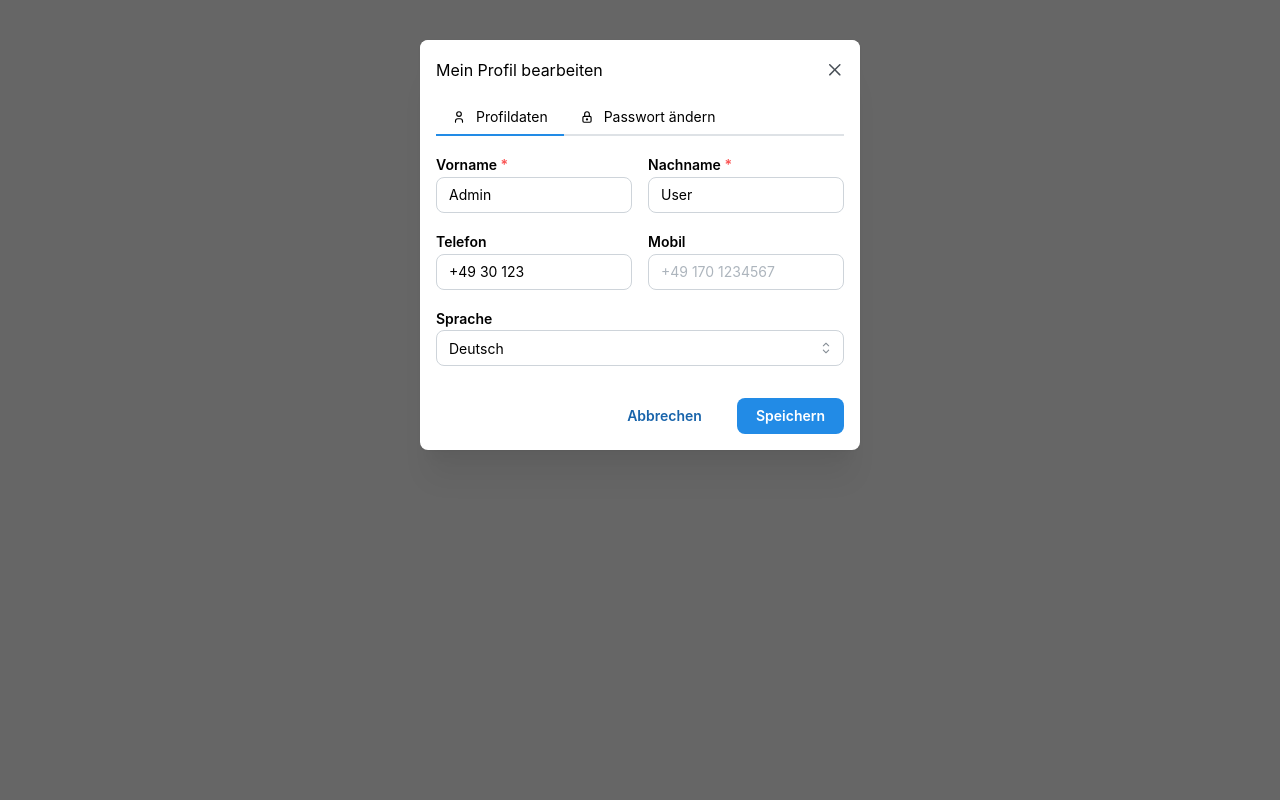
Test case: EditProfileModal › ändert das Passwort und meldet Erfolg
Click the tab "Passwort ändern" at (648, 118), box x1=564 y1=100 x2=732 y2=136
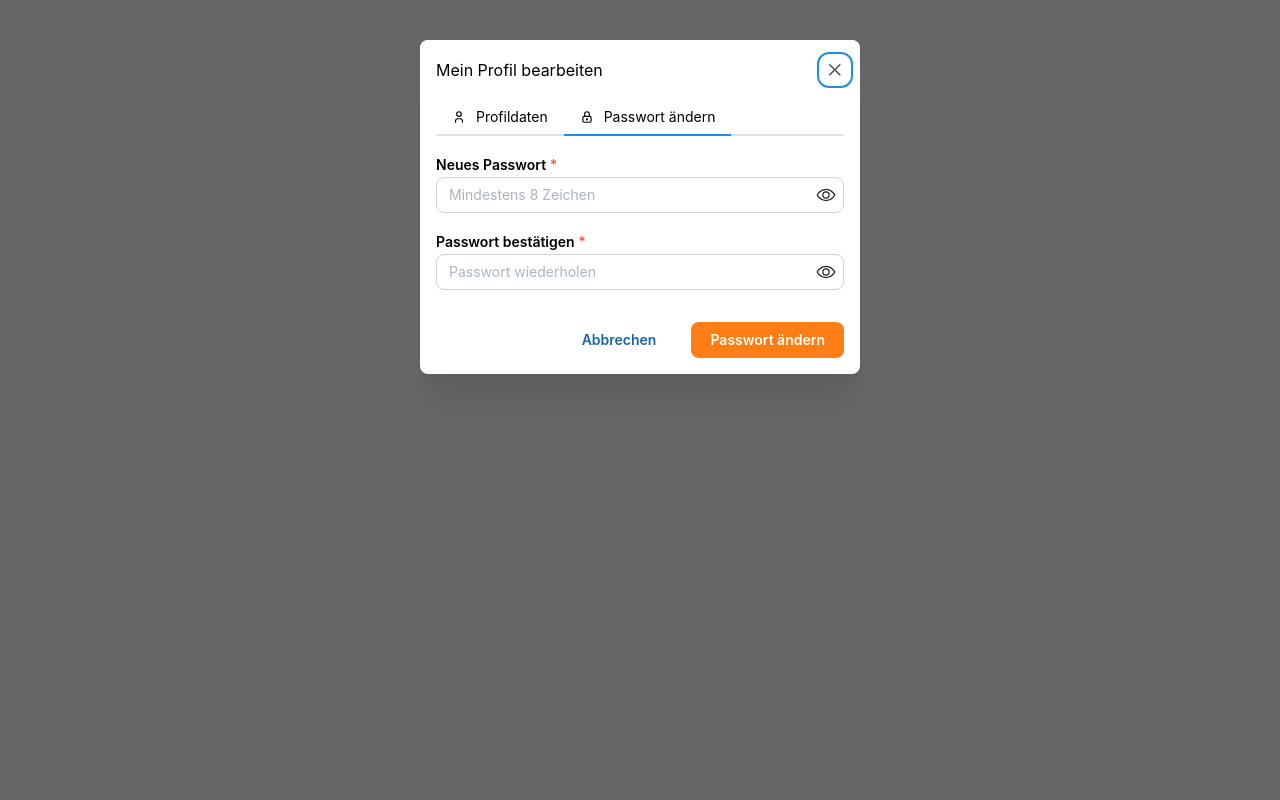
Type "sicheresPasswort1" into the password field labelled "Neues Passwort *" at (640, 195), box x1=437 y1=178 x2=843 y2=212
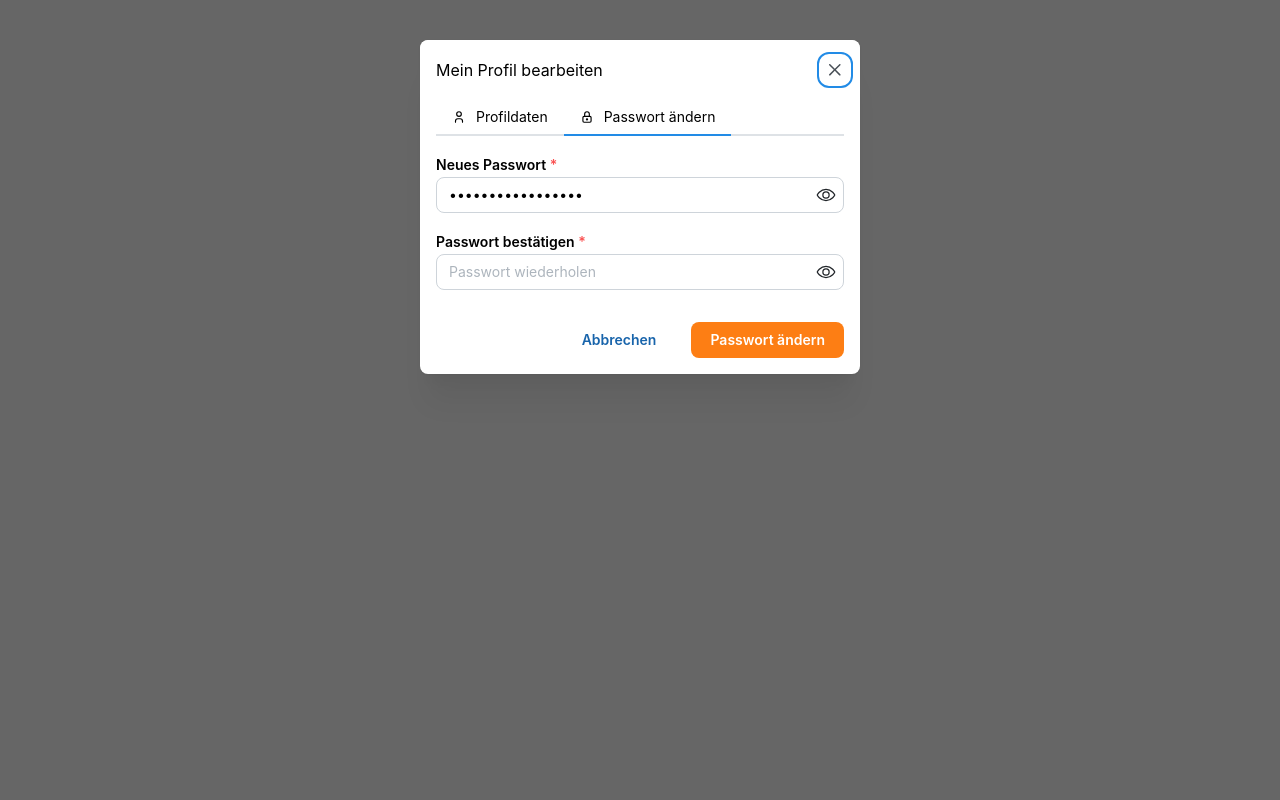
Type "sicheresPasswort1" into the password field labelled "Passwort bestätigen *" at (640, 272), box x1=437 y1=255 x2=843 y2=289
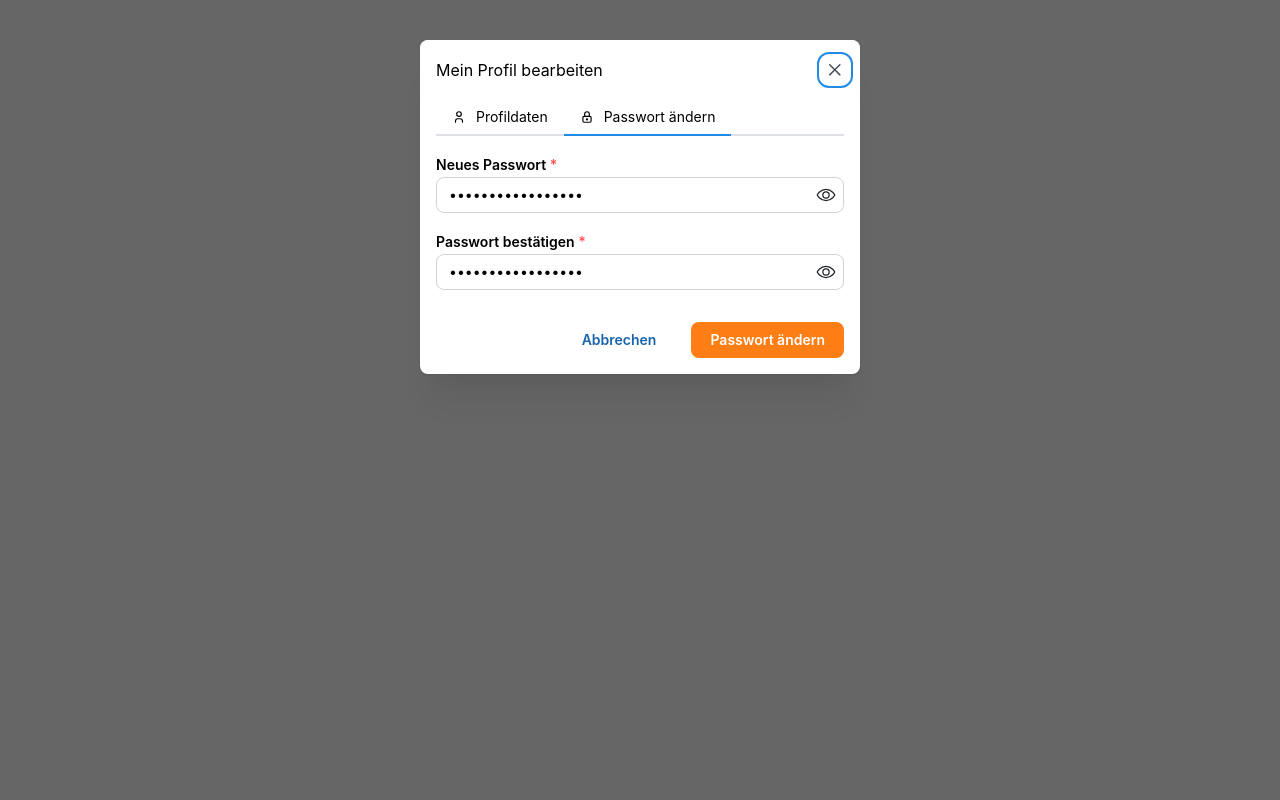
Click the button "Passwort ändern" at (768, 340), box x1=691 y1=322 x2=844 y2=358
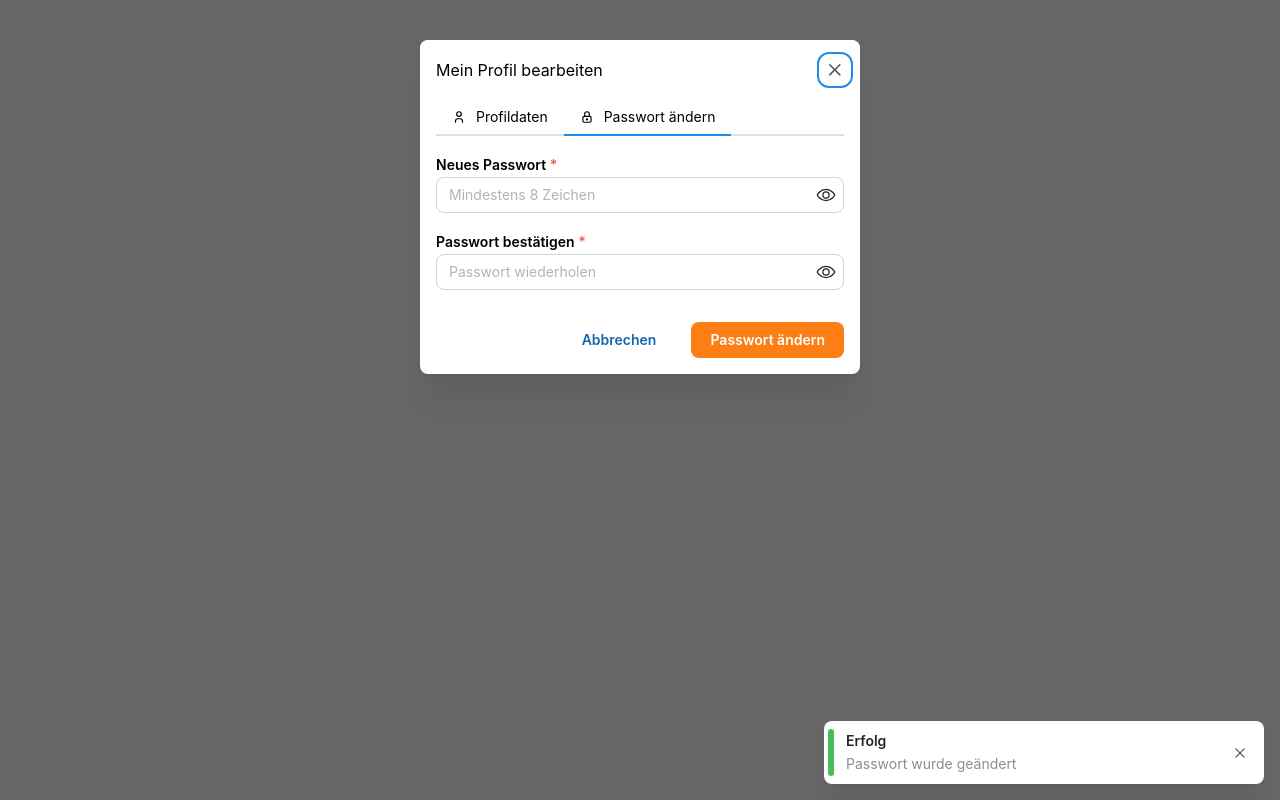
Result: the text "Passwort wurde geändert" is shown at x1=846 y1=755 x2=1016 y2=772
